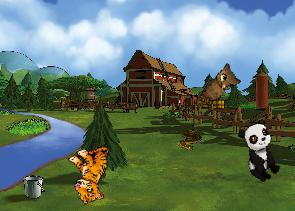owl: (197, 60, 245, 114)
panda: (235, 118, 285, 185)
tiger: (62, 140, 122, 206)
